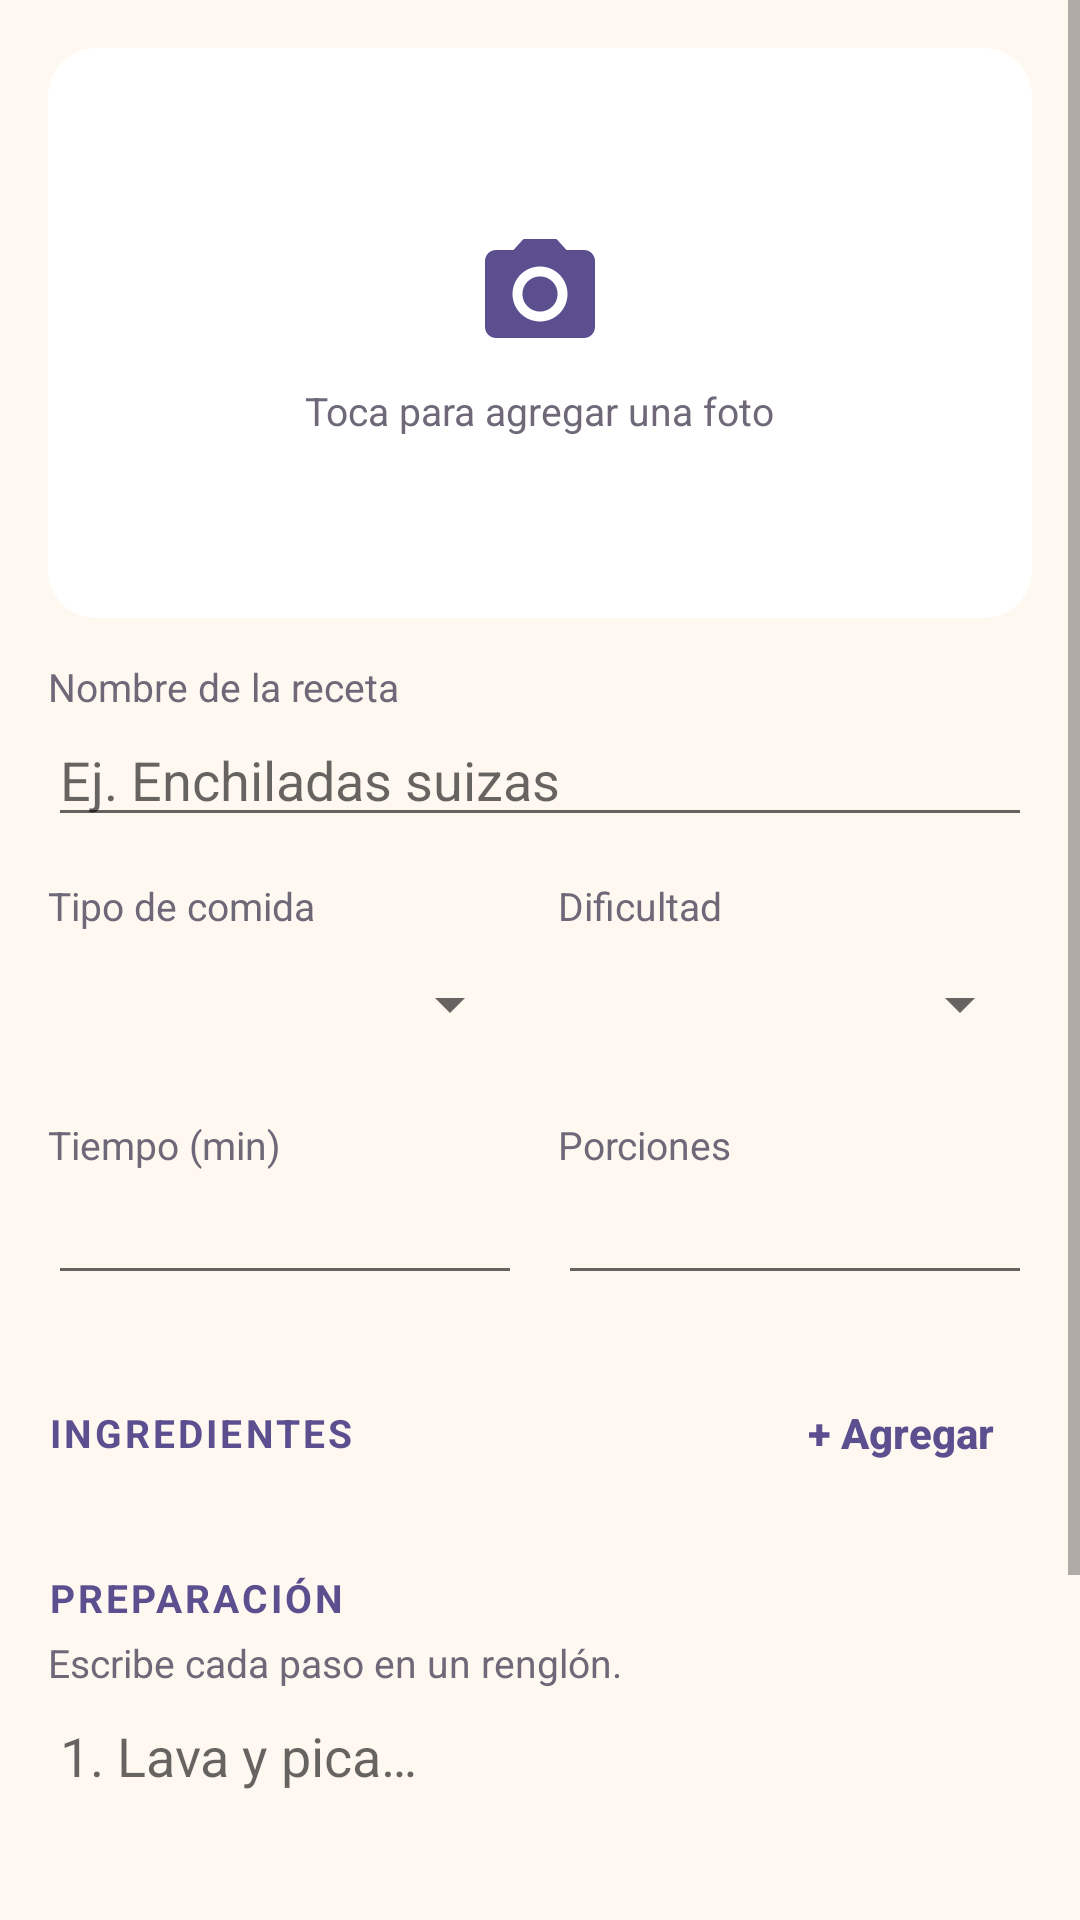

Named icons in this screenshot (1080 x 1920) and their centers, point (x, y):
camara: point (540, 288)
